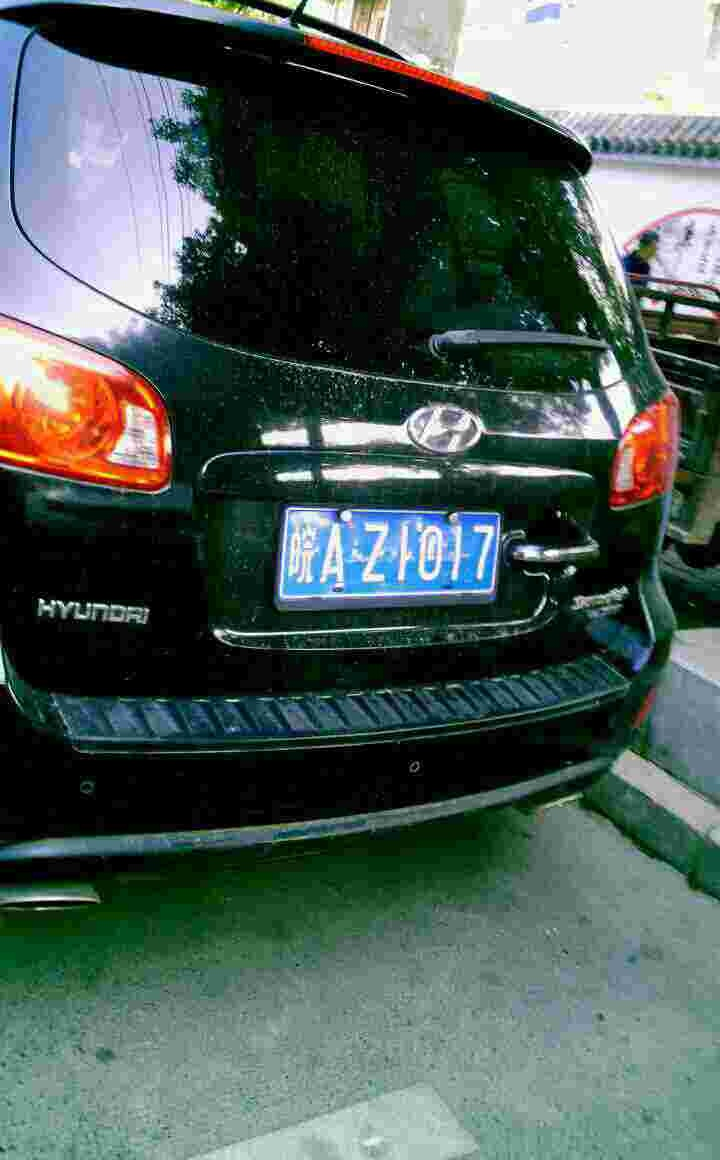license_plate: (284, 507, 500, 602)
